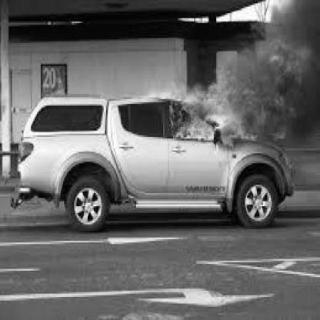Fire: (164, 40, 301, 146)
